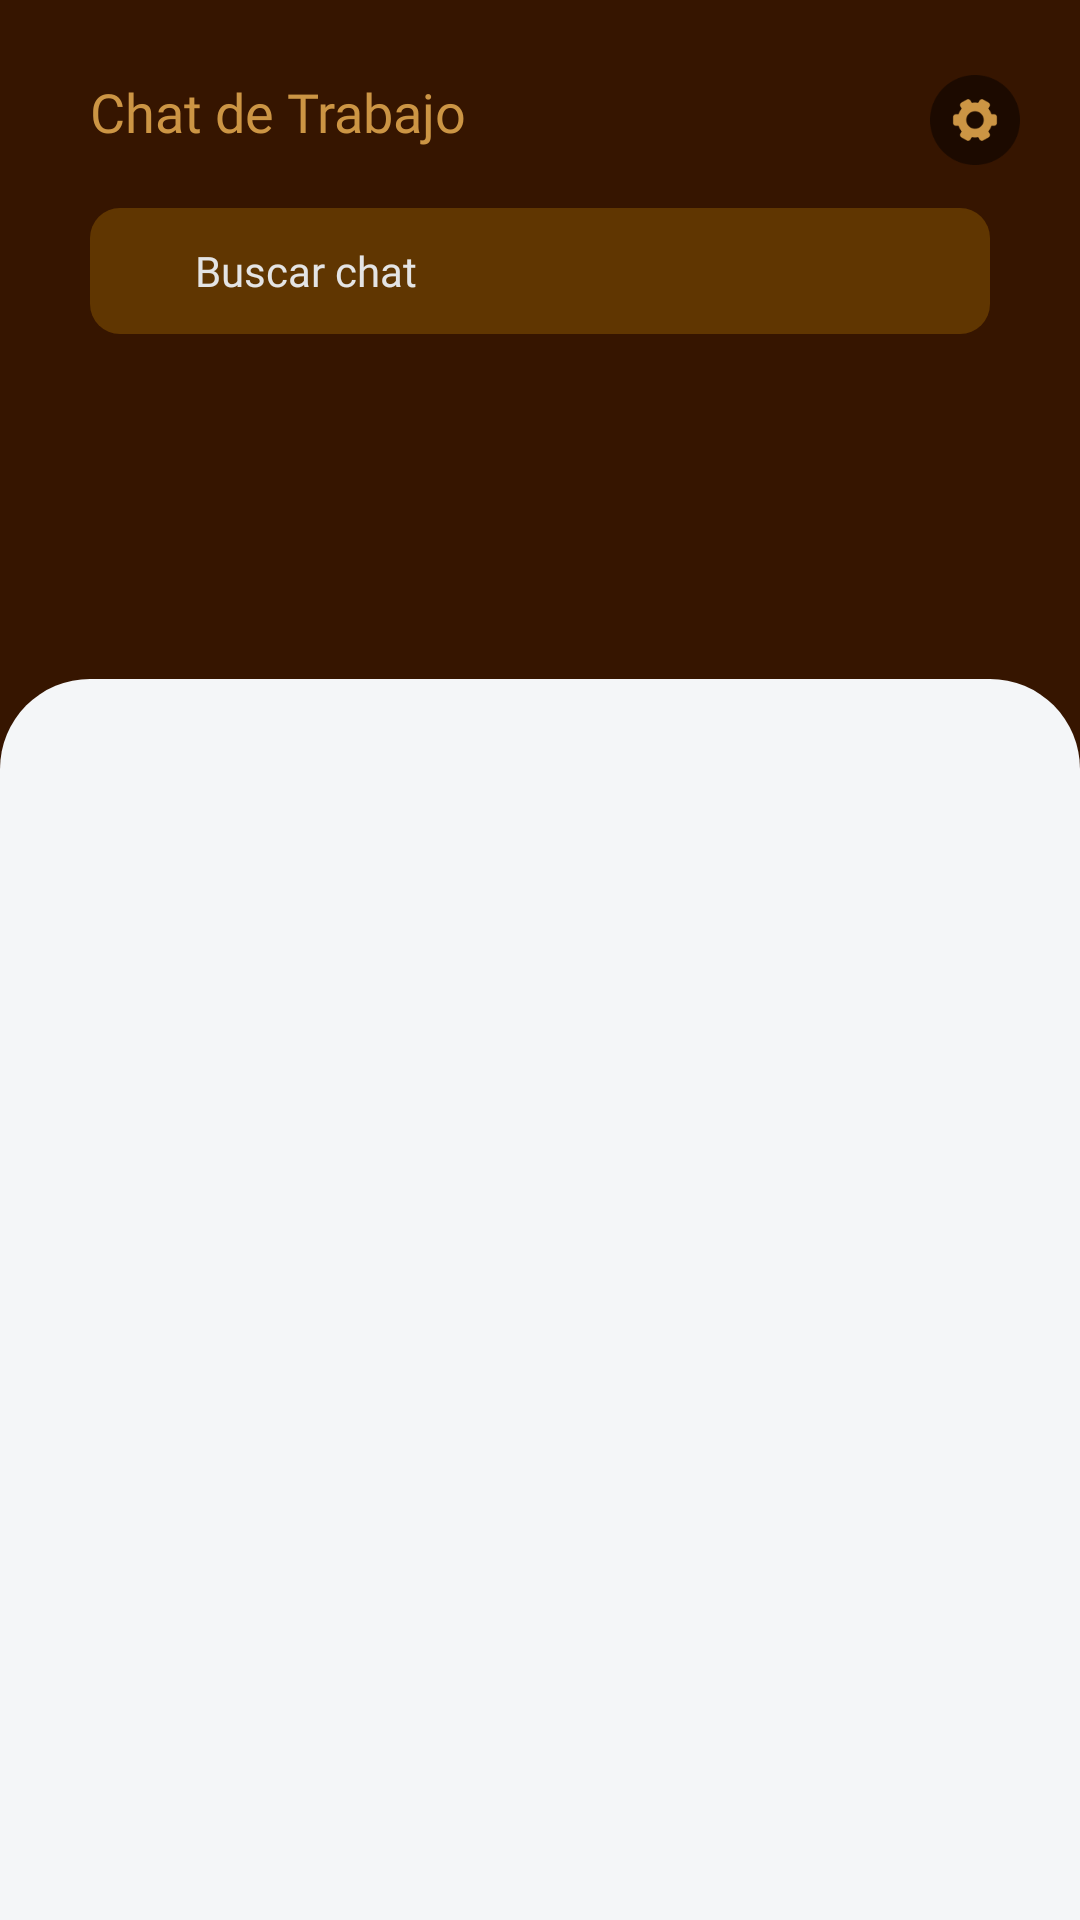

Icon click points for this 1080x1920 phone screenshot, format point (x, y):
config chat: point (975, 120)
